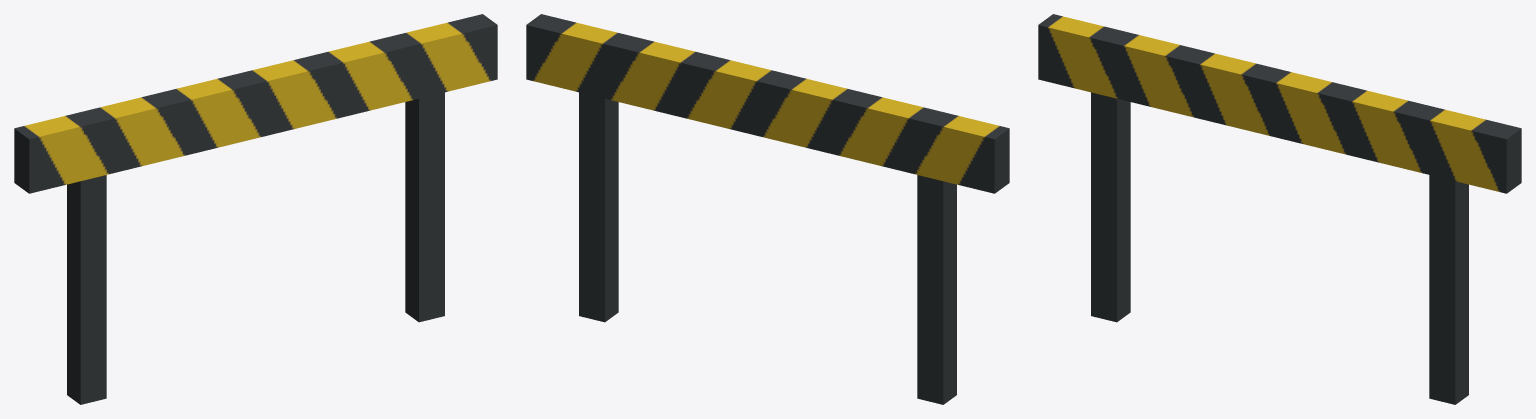
File: props-traffic-control-barrier-fence.glb
3 renders of one model, left to right at view 1: azimuth 30°, elevation 25°; view 2: azimuth 150°, elevation 25°; view 3: azimuth 330°, elevation 25°, orthographic.
Parts seen in each view (by area): view 1: model; view 2: model; view 3: model.
Boxes of the visible parts, box(x1,y1,x2,y2) form: model: box(14, 14, 497, 404); model: box(526, 14, 1009, 404); model: box(1038, 14, 1521, 404).
Size of the model in its own units: 3.6 by 2.05 by 0.2.
Materials: 1 (1 with a texture image).
